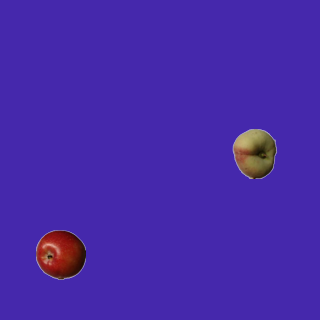Apple Braeburn: (35, 229, 85, 279)
Peach Flat: (229, 128, 279, 178)
